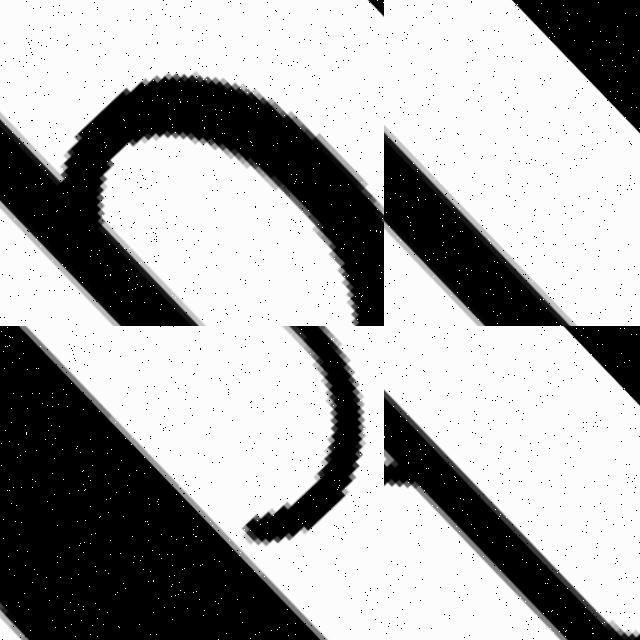9: (0, 326, 384, 640)
D: (0, 0, 384, 326)
H: (384, 389, 640, 640)
R: (384, 0, 640, 326)
